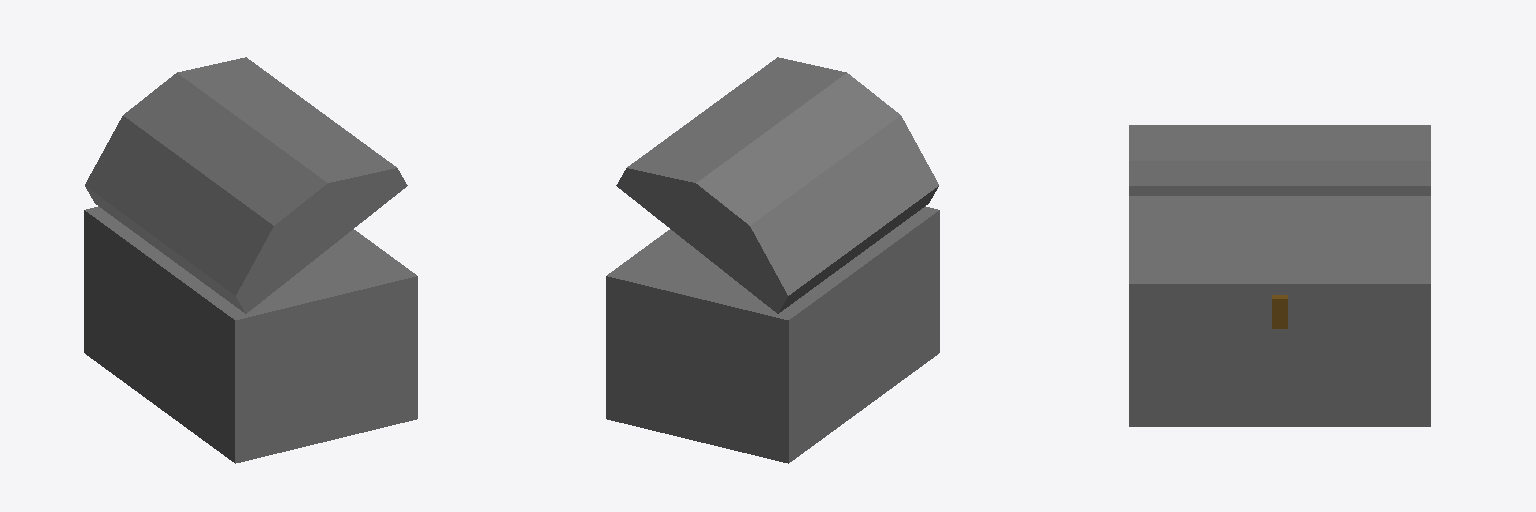
The model's file is chest.obj.
3 renders of one model, left to right at view 1: azimuth 30°, elevation 25°; view 2: azimuth 150°, elevation 25°; view 3: azimuth 270°, elevation 25°, orthographic.
Parts seen in each view (by area): view 1: pCube1 group1, group1 pCube2; view 2: pCube1 group1, group1 pCube2; view 3: pCube1 group1, group1 pCube2, group1 pCube3.
Boxes of the visible parts, box(x1,y1,x2,y2) form: pCube1 group1: box(84, 206, 417, 463); group1 pCube2: box(85, 57, 407, 313); pCube1 group1: box(606, 206, 939, 463); group1 pCube2: box(616, 57, 938, 313); pCube1 group1: box(1129, 196, 1430, 426); group1 pCube2: box(1129, 125, 1430, 195); group1 pCube3: box(1272, 295, 1287, 328).
Size of the model in its own units: 3.69 by 4.73 by 5.02.